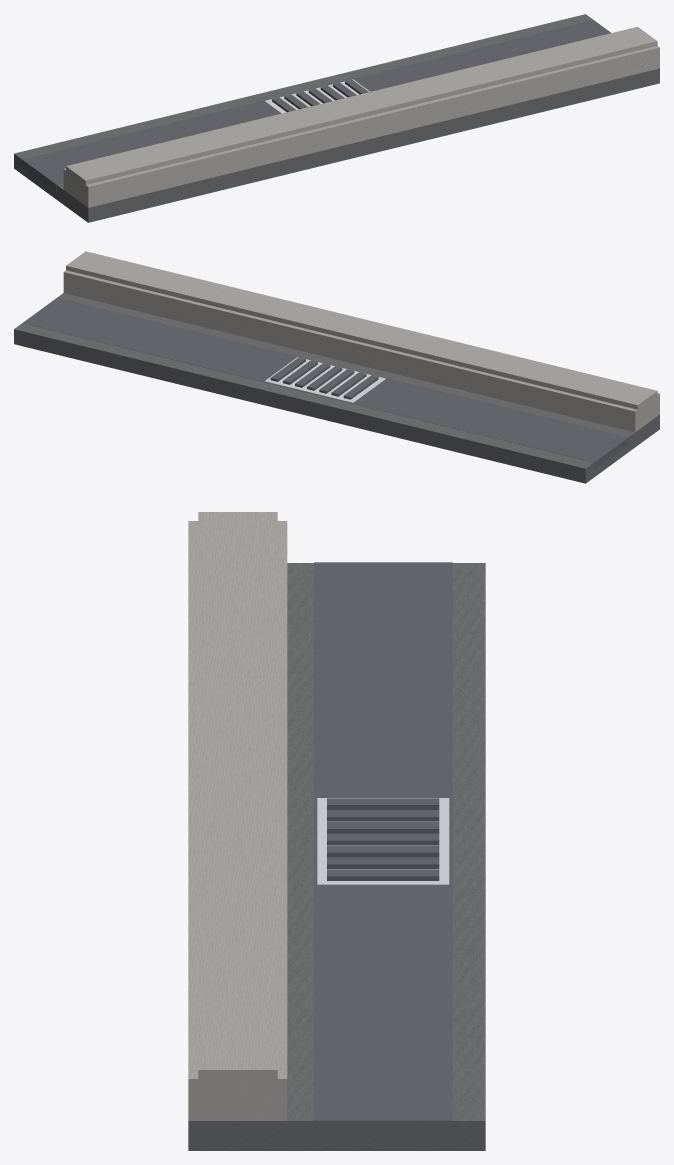
File: alley_kerb_and_drain_section.glb
The picture shows the model from 3 angles, top to bottom: view 1: azimuth 30°, elevation 25°; view 2: azimuth 150°, elevation 25°; view 3: azimuth 270°, elevation 25°; orthographic projection. The views are drawn at different scales.
Parts seen in each view (by area): view 1: alley-kerb-and-drain-section-concrete, alley-kerb-and-drain-section-asphalt, alley-kerb-and-drain-section-charcoal, alley-kerb-and-drain-section-steel; view 2: alley-kerb-and-drain-section-concrete, alley-kerb-and-drain-section-charcoal, alley-kerb-and-drain-section-asphalt, alley-kerb-and-drain-section-steel; view 3: alley-kerb-and-drain-section-charcoal, alley-kerb-and-drain-section-concrete, alley-kerb-and-drain-section-asphalt, alley-kerb-and-drain-section-steel.
Boxes of the visible parts, <box> form: alley-kerb-and-drain-section-concrete: <box>63,26,659,207</box>; alley-kerb-and-drain-section-asphalt: <box>14,14,659,222</box>; alley-kerb-and-drain-section-charcoal: <box>22,20,610,192</box>; alley-kerb-and-drain-section-steel: <box>265,79,369,113</box>; alley-kerb-and-drain-section-concrete: <box>63,251,659,432</box>; alley-kerb-and-drain-section-charcoal: <box>22,297,628,469</box>; alley-kerb-and-drain-section-asphalt: <box>14,293,659,483</box>; alley-kerb-and-drain-section-steel: <box>265,357,385,402</box>; alley-kerb-and-drain-section-charcoal: <box>314,562,452,1120</box>; alley-kerb-and-drain-section-concrete: <box>188,512,287,1120</box>; alley-kerb-and-drain-section-asphalt: <box>188,563,485,1150</box>; alley-kerb-and-drain-section-steel: <box>317,798,449,884</box>.
Size of the model in its own units: 4 by 0.27 by 0.8999.
Materials: 4 (2 with a texture image).
